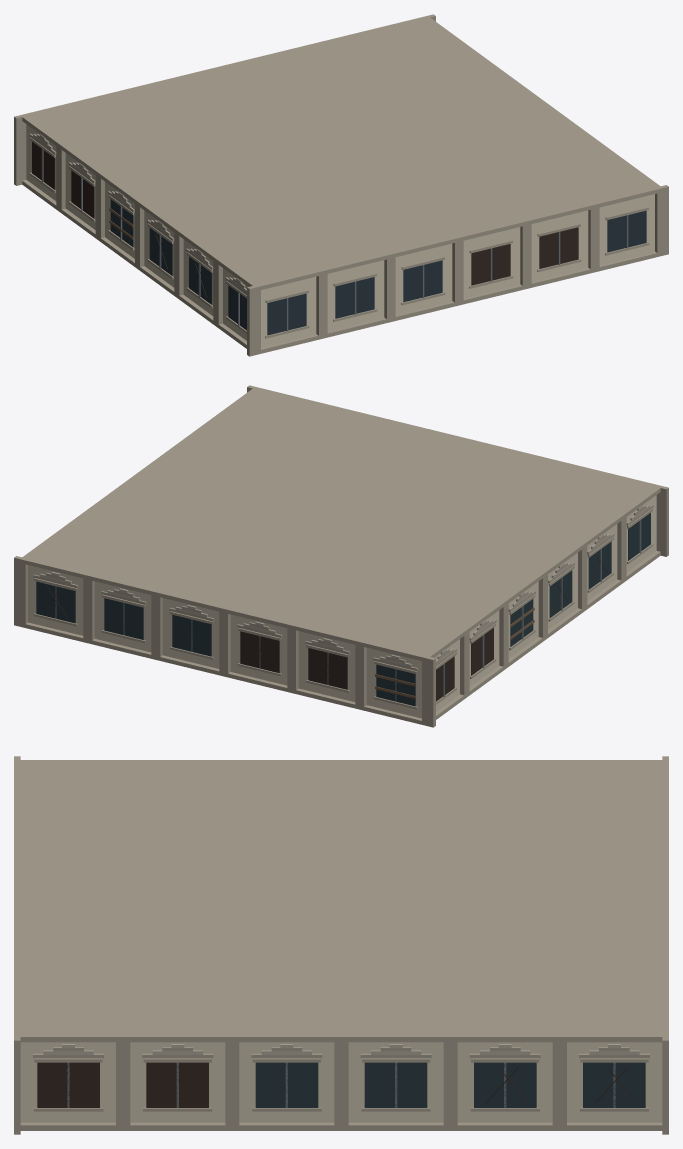
The model's file is tw_deco_24_floor_b.glb.
The picture shows the model from 3 angles, top to bottom: view 1: azimuth 30°, elevation 25°; view 2: azimuth 150°, elevation 25°; view 3: azimuth 270°, elevation 25°; orthographic projection. The views are drawn at different scales.
Parts seen in each view (by area): view 1: tw_deco_24_floor_b; view 2: tw_deco_24_floor_b; view 3: tw_deco_24_floor_b.
Boxes of the visible parts, <box> form: tw_deco_24_floor_b: <box>14,14,668,356</box>; tw_deco_24_floor_b: <box>14,385,668,727</box>; tw_deco_24_floor_b: <box>14,756,668,1134</box>.
Bounding box in the file's own units: 24.68 × 3.8 × 24.
Materials: 2 (2 with a texture image).
